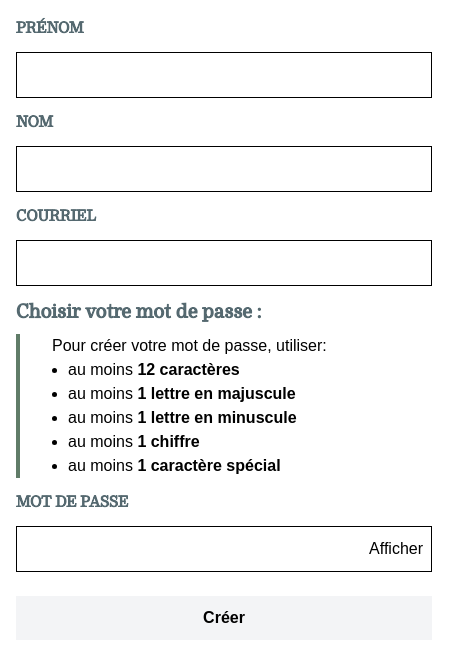
Test: Register View page › all resolution › should display register view content and have correct elements
The image size is (449, 657).
(page scrolled)
Click the button with test id "display_pwd" at (396, 549), box x1=369 y1=537 x2=423 y2=561
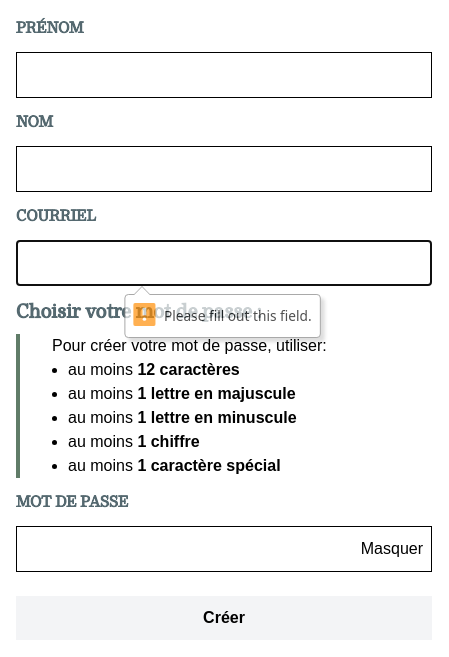
Check: the button with test id "create_user_btn" is shown, box x1=16 y1=596 x2=432 y2=640
Check: the button with test id "display_pwd" is gone
Check: the button with test id "hide_pwd" is shown, box x1=361 y1=537 x2=423 y2=561
